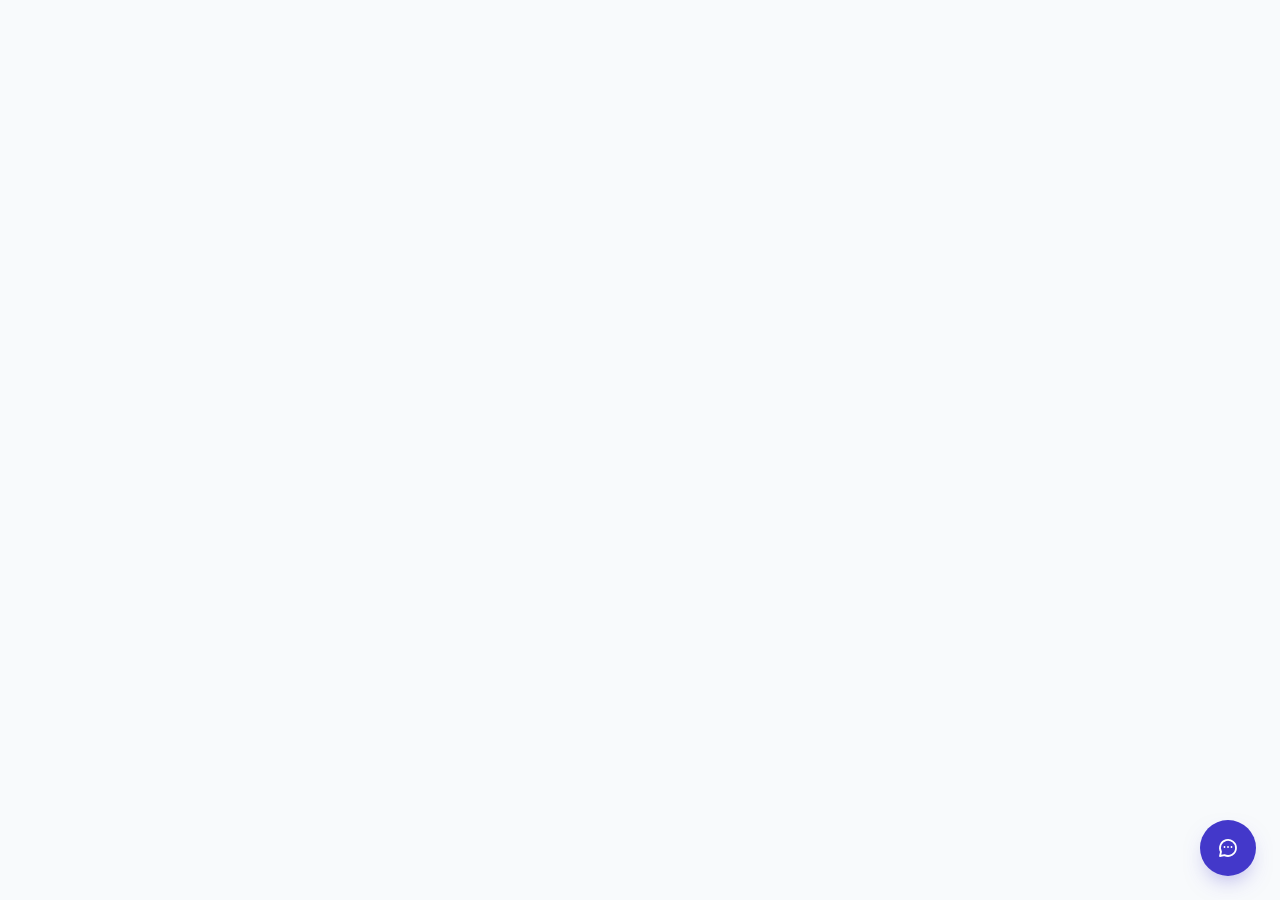
Scenario: citations that do not point into the portfolio are never rendered
Step 1. Click the button named "Ask PortfolioAI about Irfan's work" → {"x": 1228, "y": 848}, box [1200,820,1256,876]
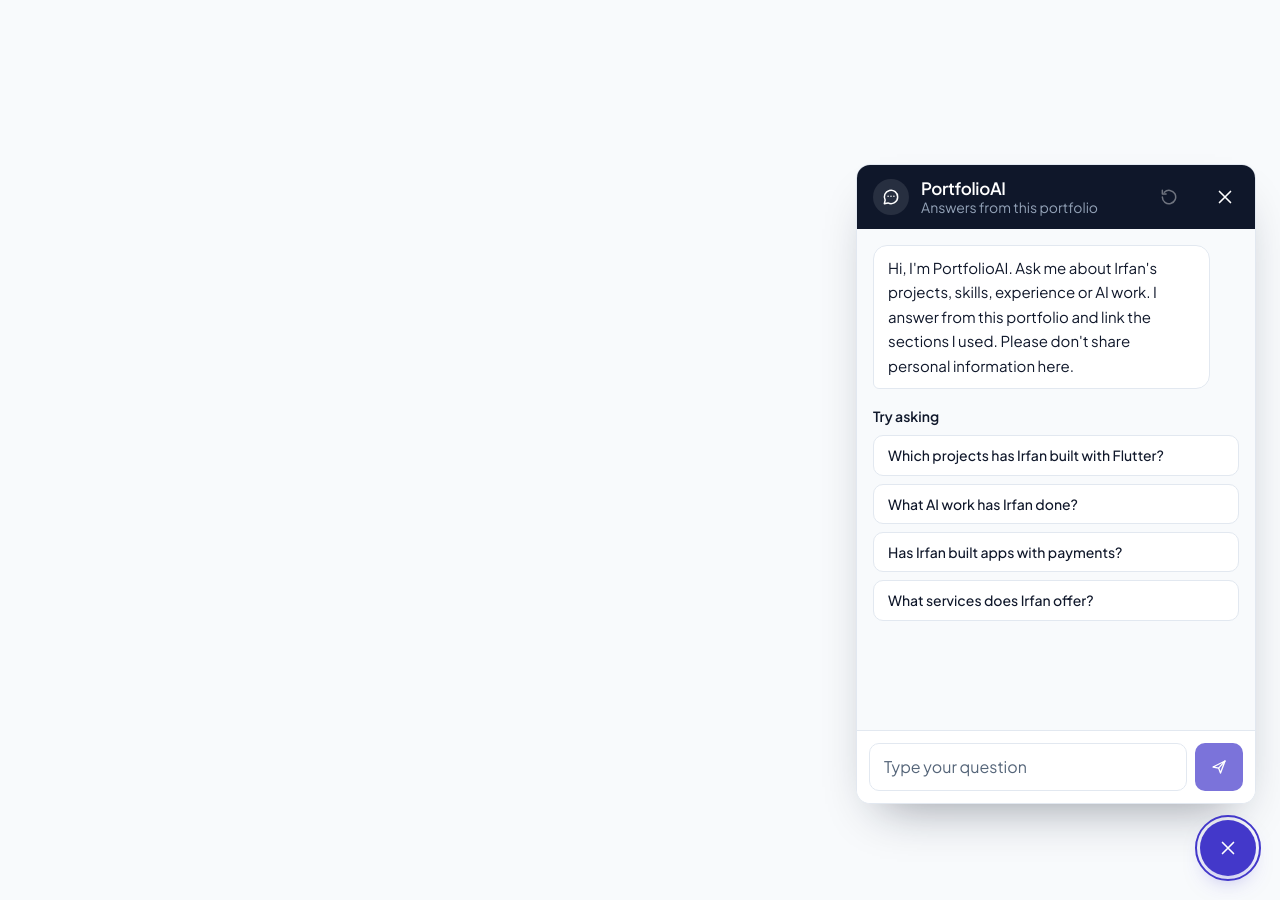
Step 2. Type "Question" into the text box labelled "your question" → {"x": 1028, "y": 767}, box [869,743,1187,791]
Then press Enter
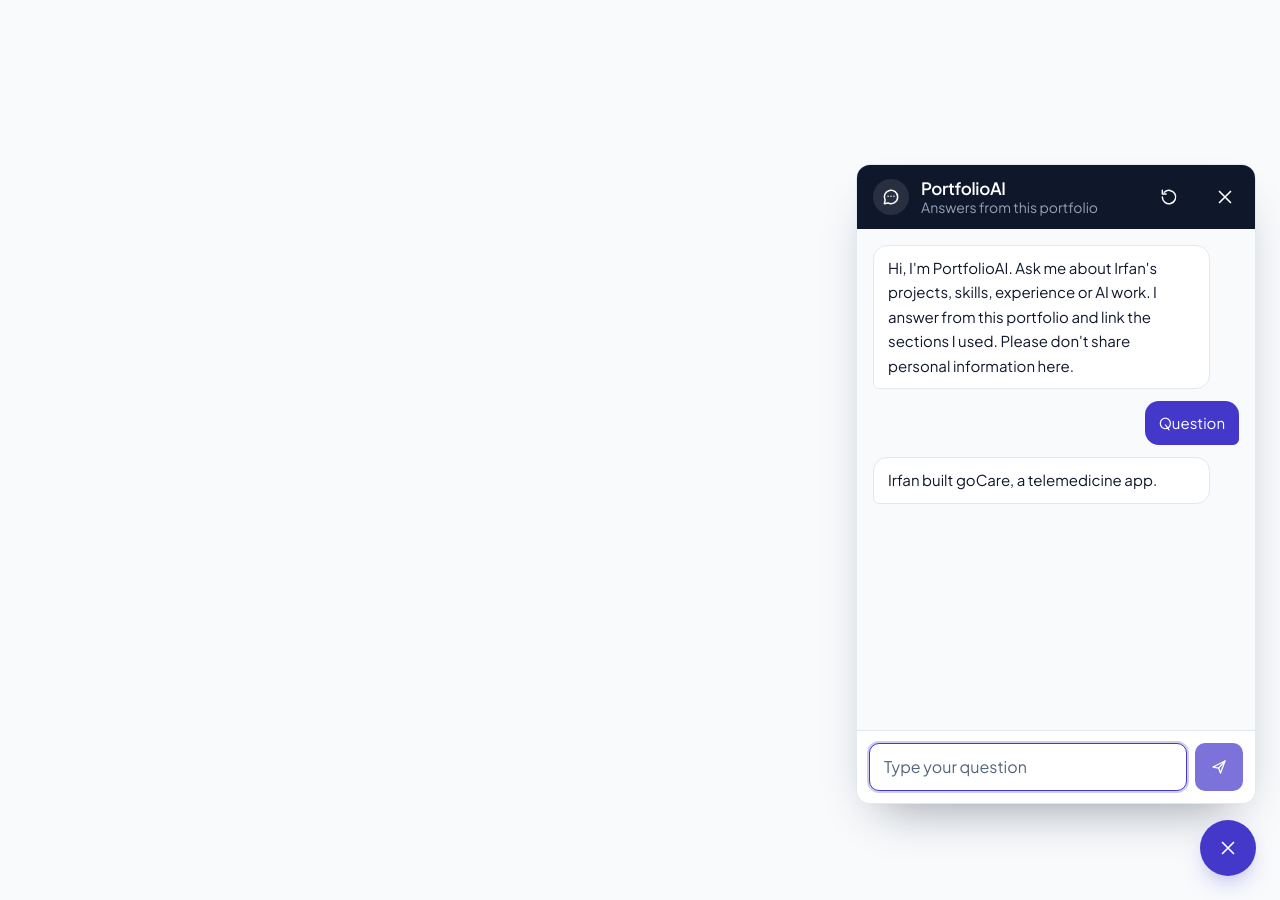
Result: the text "Irfan built goCare, a telemedicine app." is shown at [888,468,1195,493]
